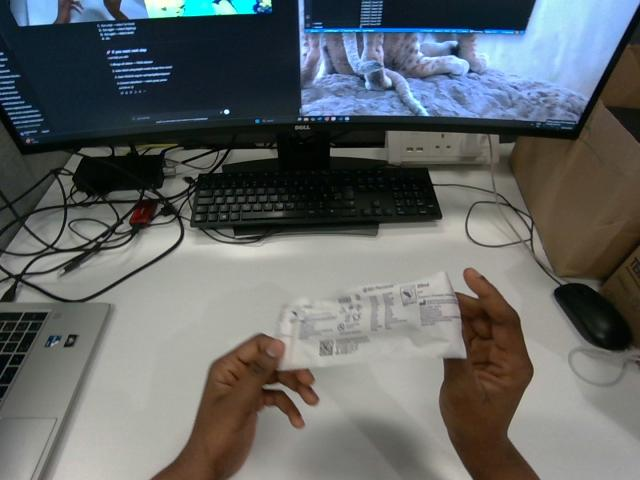syringe: (276, 272, 465, 369)
